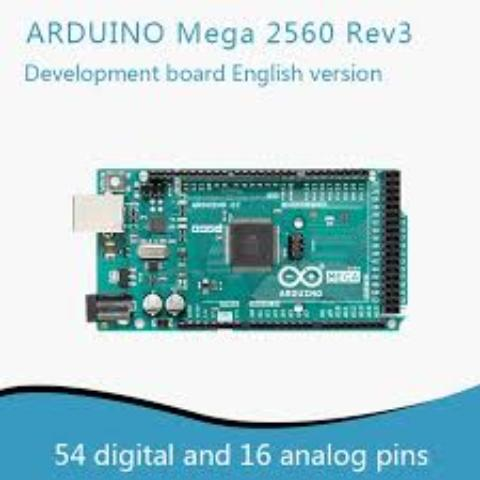Arduino-Mega: (58, 151, 418, 343)
